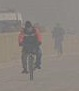person: (17, 20, 43, 82), (51, 23, 66, 54)
